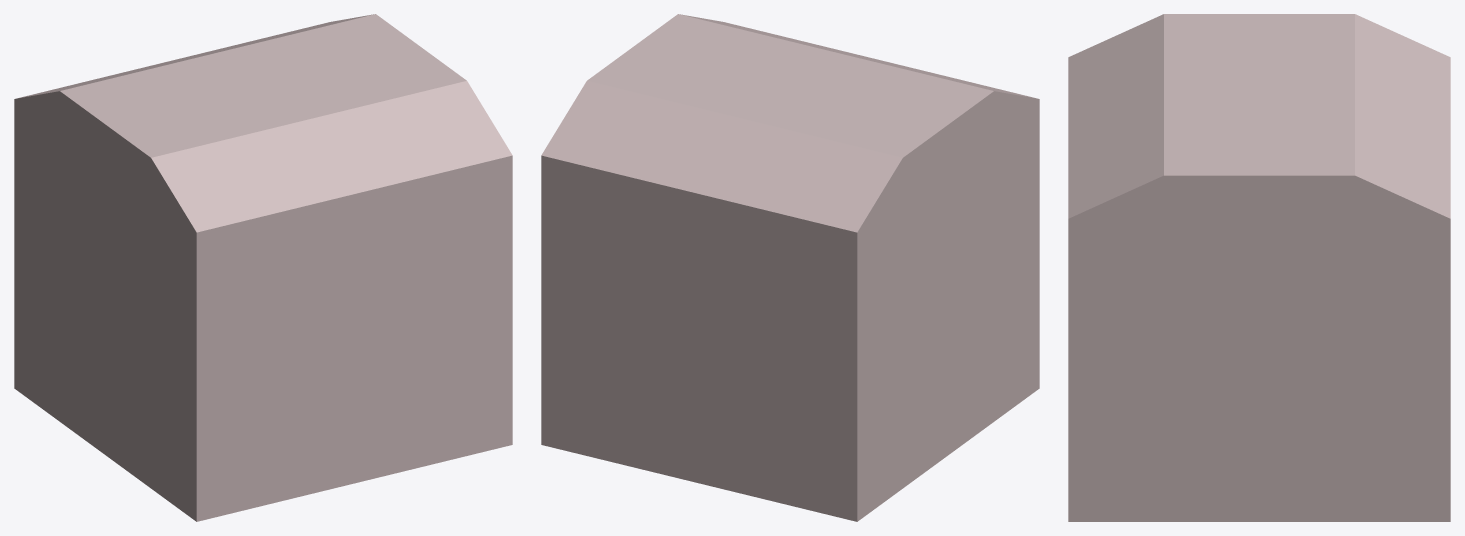
The model's file is splicer.obj.
3 renders of one model, left to right at view 1: azimuth 30°, elevation 25°; view 2: azimuth 150°, elevation 25°; view 3: azimuth 270°, elevation 25°, orthographic. The views are drawn at different scales.
Parts seen in each view (by area): view 1: cube; view 2: cube; view 3: cube.
Part boxes in pixels (bbox=[...]): cube: bbox=[14, 14, 512, 521]; cube: bbox=[541, 14, 1039, 521]; cube: bbox=[1068, 14, 1450, 521].
Bounding box in the file's own units: 1 × 1 × 1.
